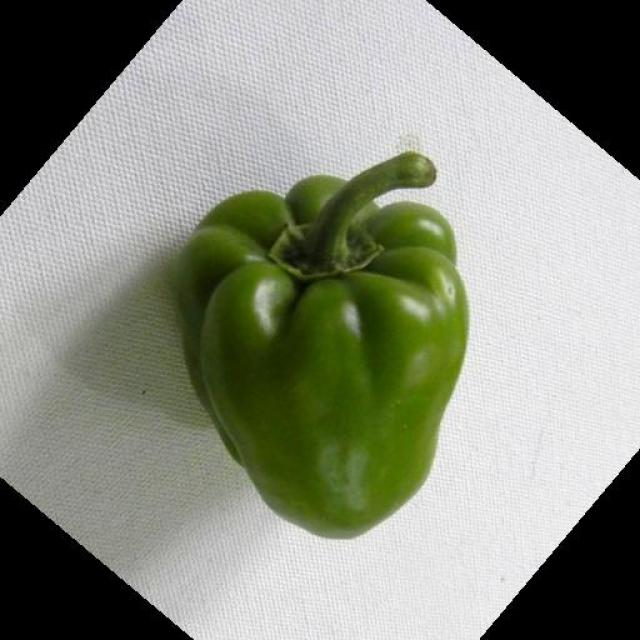Fresh_Capsicum: (177, 170, 525, 539)
